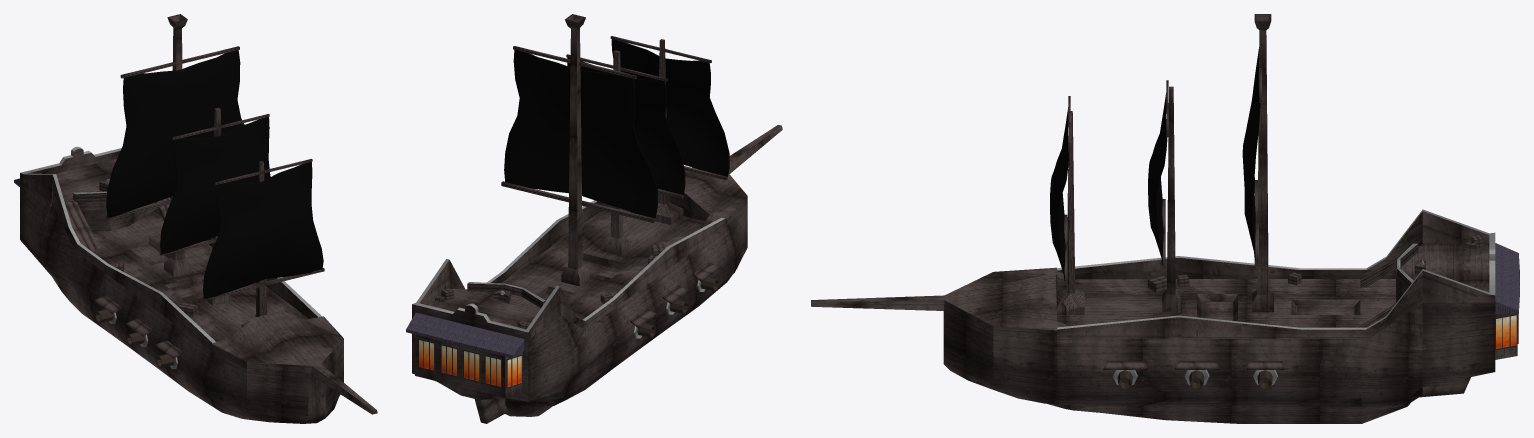
Rendered from Bship100HP.fbx.
The picture shows the model from 3 angles, left to right: view 1: azimuth 30°, elevation 25°; view 2: azimuth 150°, elevation 25°; view 3: azimuth 270°, elevation 25°; orthographic projection. The views are drawn at different scales.
Parts seen in each view (by area): view 1: pCube1, pCube17, pCube56, pCube21, pCube2, pCube19, pCube55, pCube22, pCube57; view 2: pCube1, pCube17, pCube56, pCube21, pCube16, pCube4, pCube6, pCube19, pCube43, pCube47, pCube51, pCube31 (+2 smaller); view 3: pCube1, pCube17, pCube21, pCube56.
Boxes of the visible parts, box(x1,y1,x2,y2) form: pCube1: box(14, 14, 377, 423); pCube17: box(106, 50, 244, 217); pCube56: box(203, 162, 323, 298); pCube21: box(160, 117, 270, 253); pCube2: box(64, 201, 99, 250); pCube19: box(120, 46, 239, 78); pCube55: box(202, 268, 324, 300); pCube22: box(172, 114, 269, 140); pCube57: box(214, 159, 312, 184); pCube1: box(406, 14, 782, 416); pCube17: box(504, 50, 657, 218); pCube56: box(611, 39, 729, 176); pCube21: box(567, 57, 685, 194); pCube16: box(501, 181, 655, 222); pCube4: box(467, 282, 545, 307); pCube6: box(474, 398, 508, 423); pCube19: box(513, 46, 636, 79); pCube43: box(464, 351, 479, 381); pCube47: box(485, 356, 500, 386); pCube51: box(507, 356, 521, 386); pCube31: box(419, 340, 433, 370); pCube1: box(811, 14, 1519, 423); pCube17: box(1242, 47, 1260, 260); pCube21: box(1148, 93, 1167, 264); pCube56: box(1050, 107, 1069, 280).
Size of the model in its own units: 6.9 by 15.06 by 23.94.
